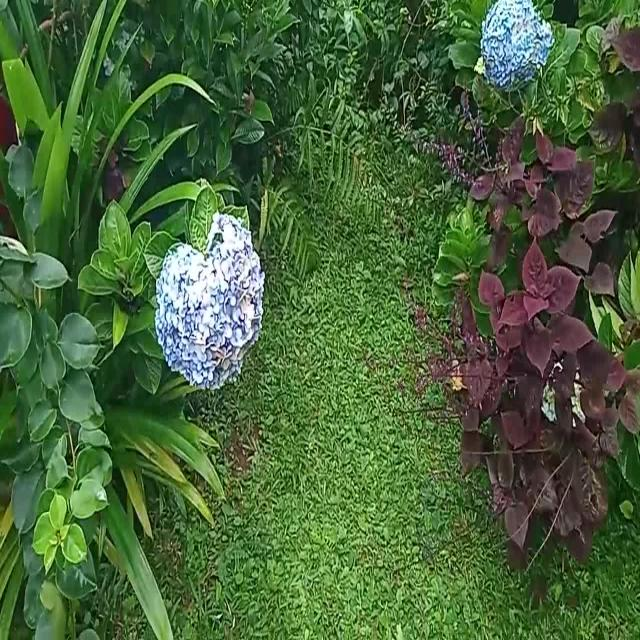Flower: (152, 210, 273, 396), (478, 1, 556, 91)
